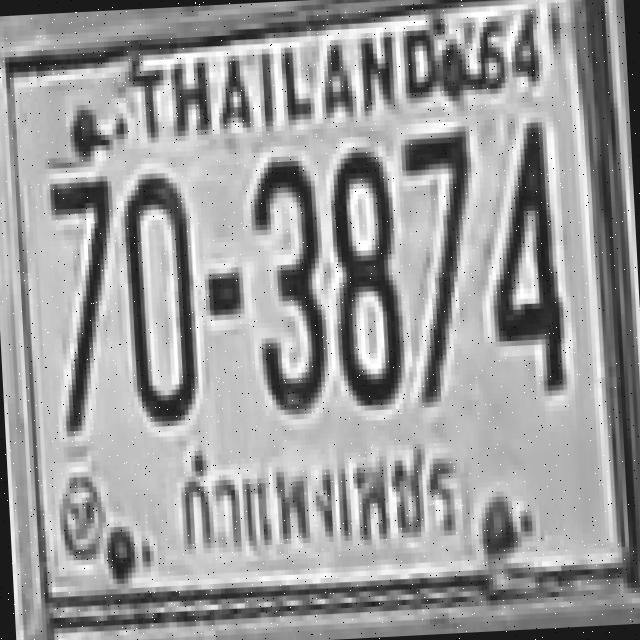0: (118, 172, 196, 423)
3: (248, 155, 326, 411)
4: (480, 116, 563, 388)
7: (398, 126, 482, 403), (46, 173, 120, 430), (46, 177, 118, 380)
8: (324, 146, 402, 402)
KamphaengPhet: (162, 428, 476, 572)
